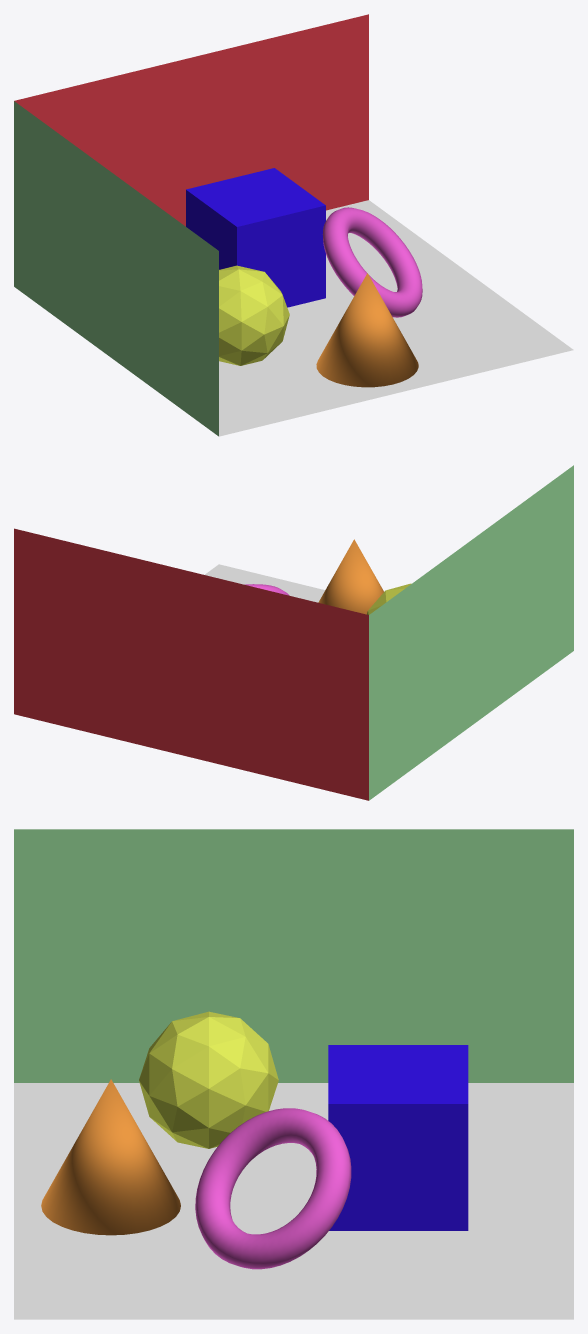
The picture shows the model from 3 angles, top to bottom: view 1: azimuth 30°, elevation 25°; view 2: azimuth 150°, elevation 25°; view 3: azimuth 270°, elevation 25°; orthographic projection. The views are drawn at different scales.
Parts seen in each view (by area): view 1: Wall-Back, Wall-Left, Floor, Cube.001, Cone, Icosphere, Torus.001; view 2: Wall-Back, Wall-Left, Cone, Floor; view 3: Wall-Left, Floor, Cube.001, Icosphere, Torus.001, Cone.
Part boxes in pixels (x1,y1,x2,y2): Wall-Back: (14, 14, 368, 226); Wall-Left: (14, 101, 218, 436); Floor: (219, 200, 573, 436); Cube.001: (186, 168, 325, 307); Cone: (316, 273, 418, 387); Icosphere: (219, 265, 289, 365); Torus.001: (322, 207, 422, 317); Wall-Back: (14, 528, 368, 800); Wall-Left: (369, 465, 573, 800); Cone: (318, 539, 383, 614); Floor: (205, 564, 325, 602); Wall-Left: (14, 829, 573, 1082); Floor: (14, 1083, 573, 1319); Cube.001: (328, 1045, 468, 1230); Icosphere: (139, 1011, 278, 1148); Torus.001: (195, 1108, 351, 1269); Cone: (41, 1079, 180, 1235).
Bounding box in the file's own units: 2 × 1 × 2.
